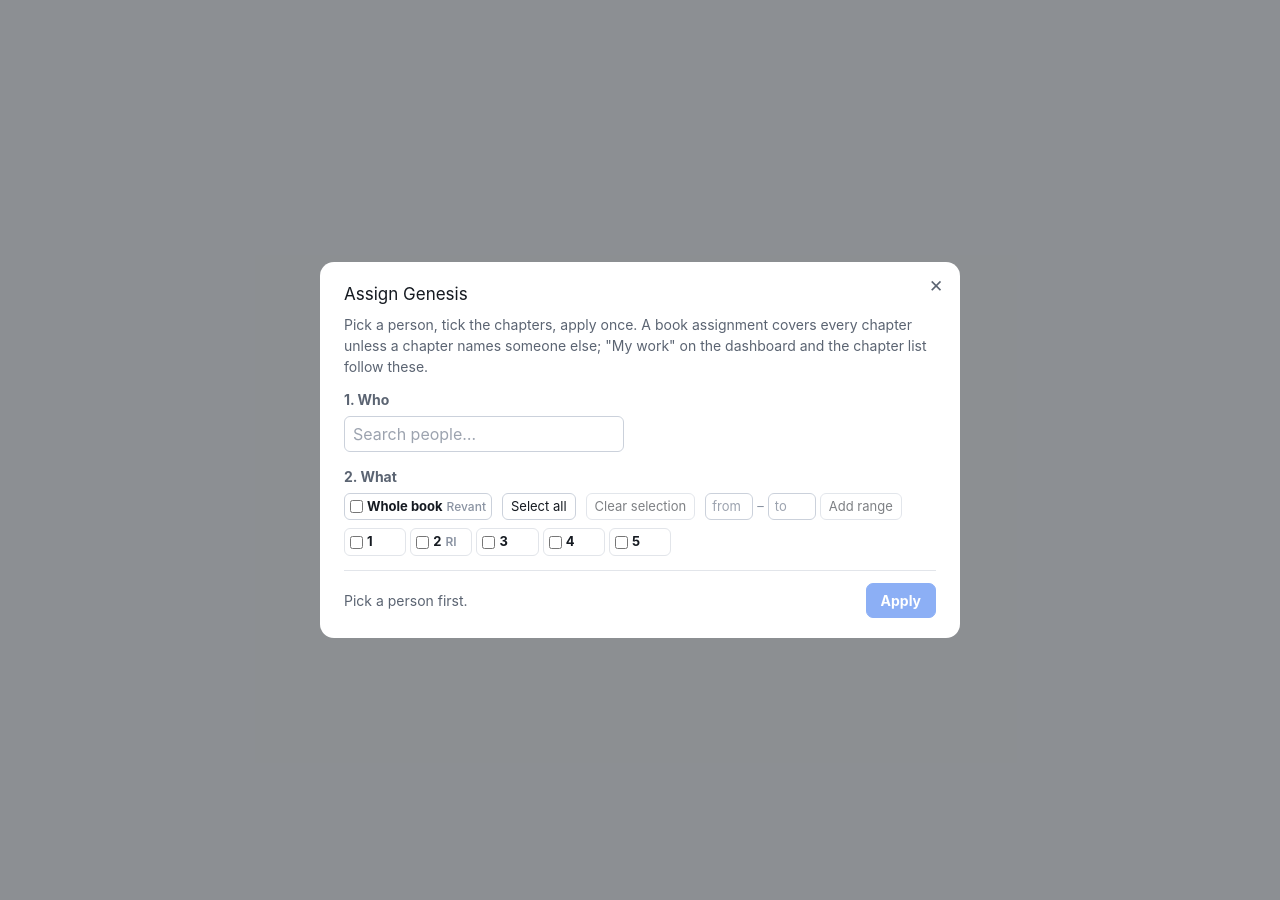
AssignmentsDialog (#378: person once, chapters, one Apply) › shows the whole book and each chapter with who holds it now, and lists active users plus Nobody
The width and height of the screenshot is (1280, 900).
expect the heading "Assign Genesis" is shown: met, box left=344, top=284, right=468, bottom=304
expect the label "Whole book" shows "Revant": met, box left=447, top=498, right=486, bottom=514
Step 1. Focus the dropdown named "Person" → point(484, 434), box left=344, top=416, right=624, bottom=452
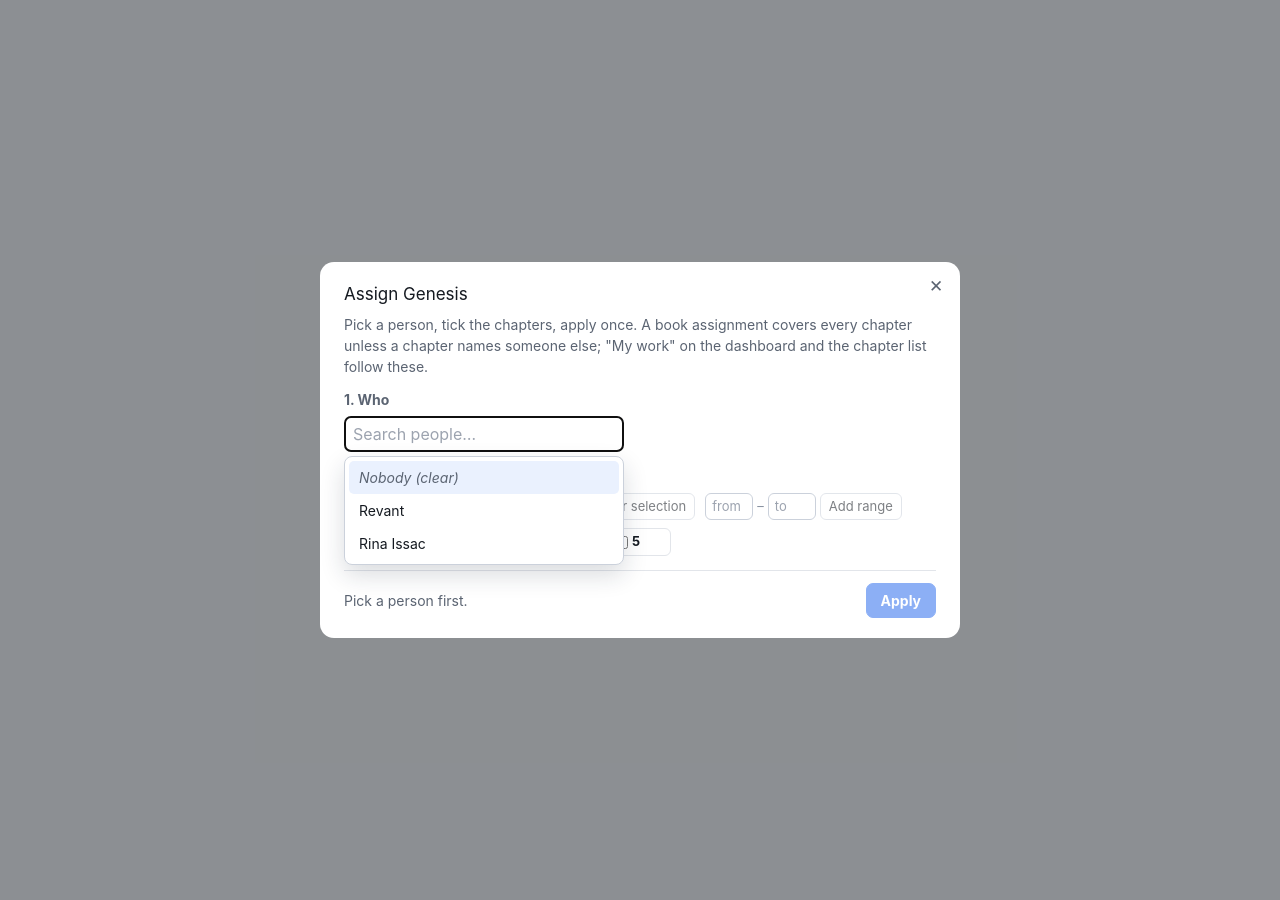
expect the options read "Nobody (clear)", "Revant", "Rina Issac", in this order: met, box left=349, top=461, right=619, bottom=494; left=359, top=502, right=404, bottom=519; left=359, top=535, right=426, bottom=552
Step 2. Type "rin" into the dropdown named "Person" → point(484, 434), box left=344, top=416, right=624, bottom=452
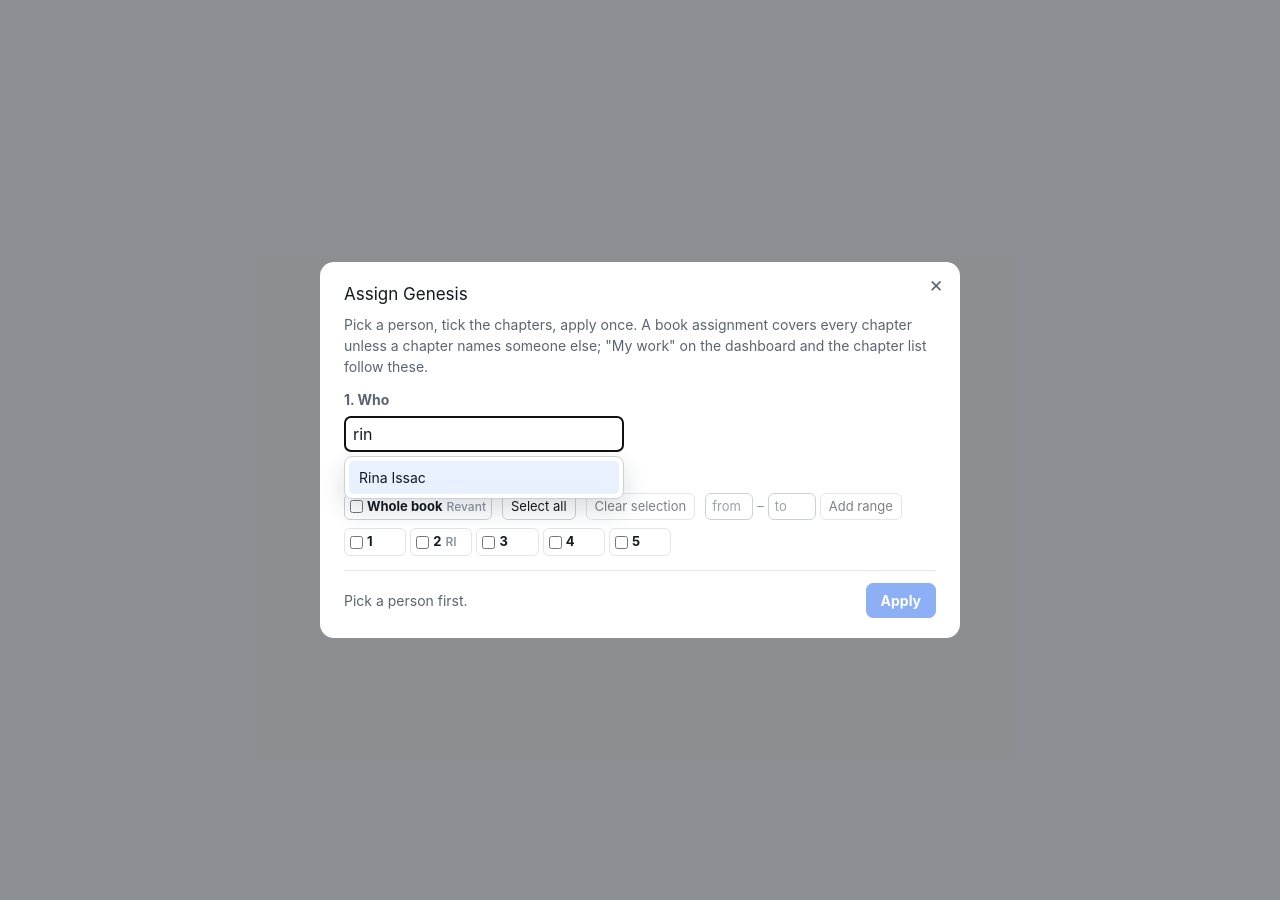
expect the options read "Rina Issac", in this order: met, box left=349, top=461, right=619, bottom=494
